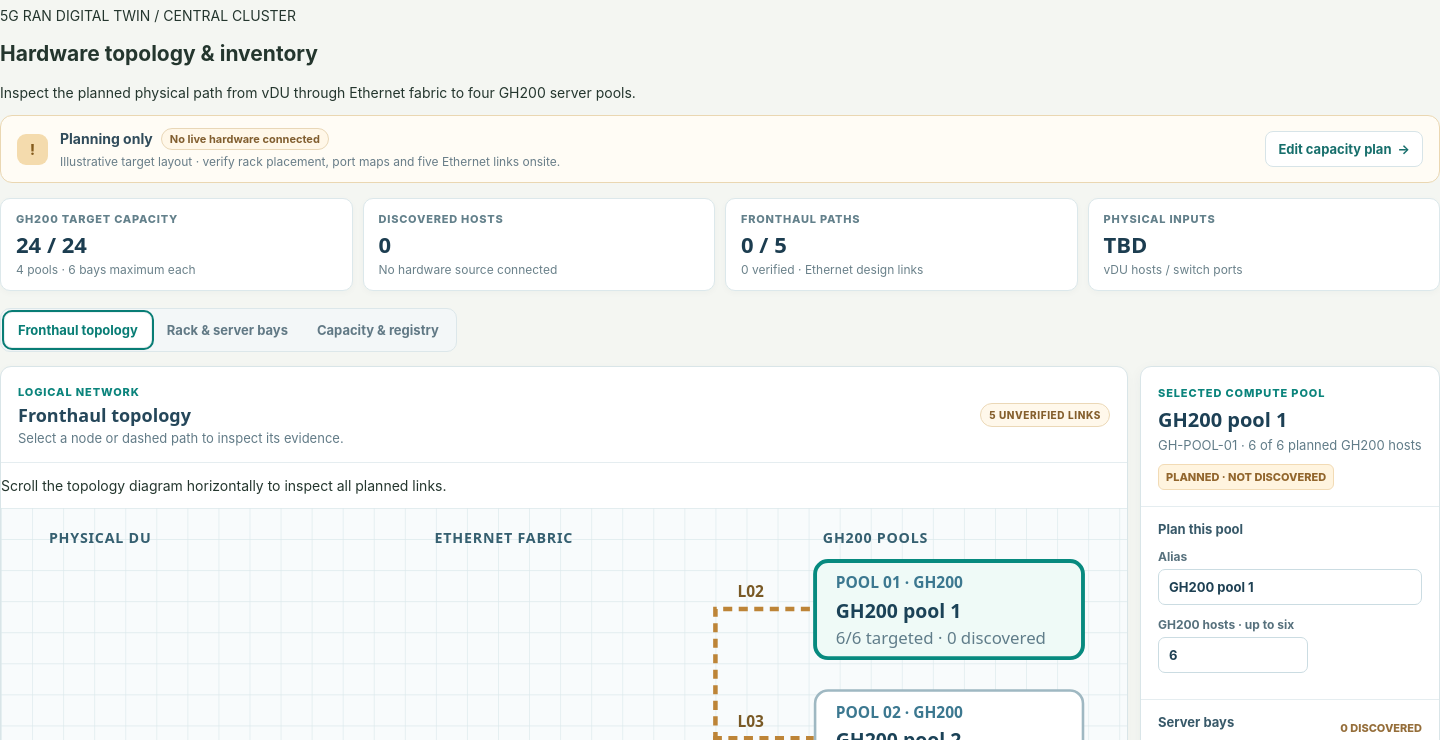
Test case: HardwarePreviewLeaf › renders transient topology, keeps roving keyboard tabs and makes racks inspectable
Check: the text "No live hardware connected" is shown, box [161,128,329,150]
Check: the text "Scroll the topology diagram horizontally to inspect all planned links." is shown, box [1,477,446,494]
Press ArrowRight in the tab "Fronthaul topology", box [5,313,151,347]
(page scrolled)
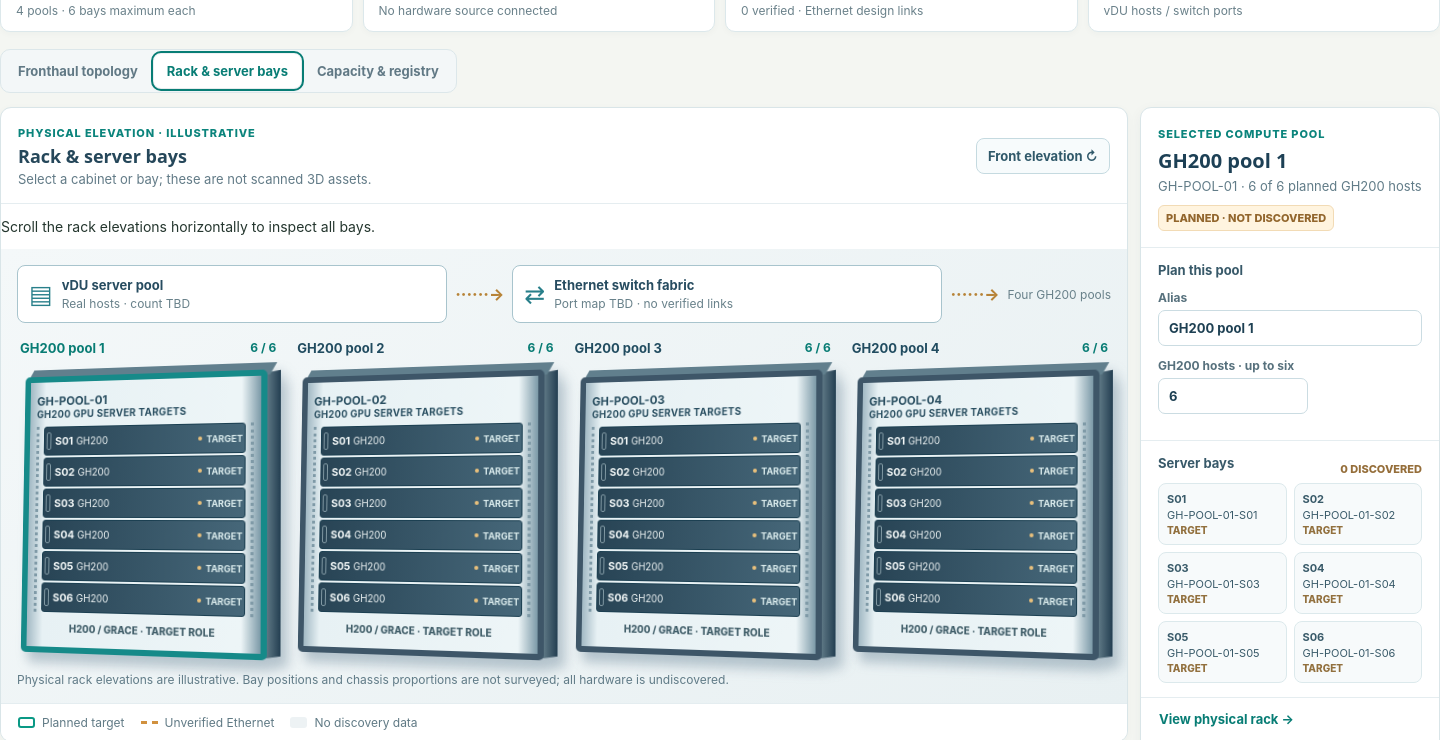
Check: the element named "Hardware rack elevations; scroll horizontally" is shown, box [1,249,1127,703]
Click the button with aria-label "GH-POOL-02-S06" at (420, 600), box [318,583,523,618]
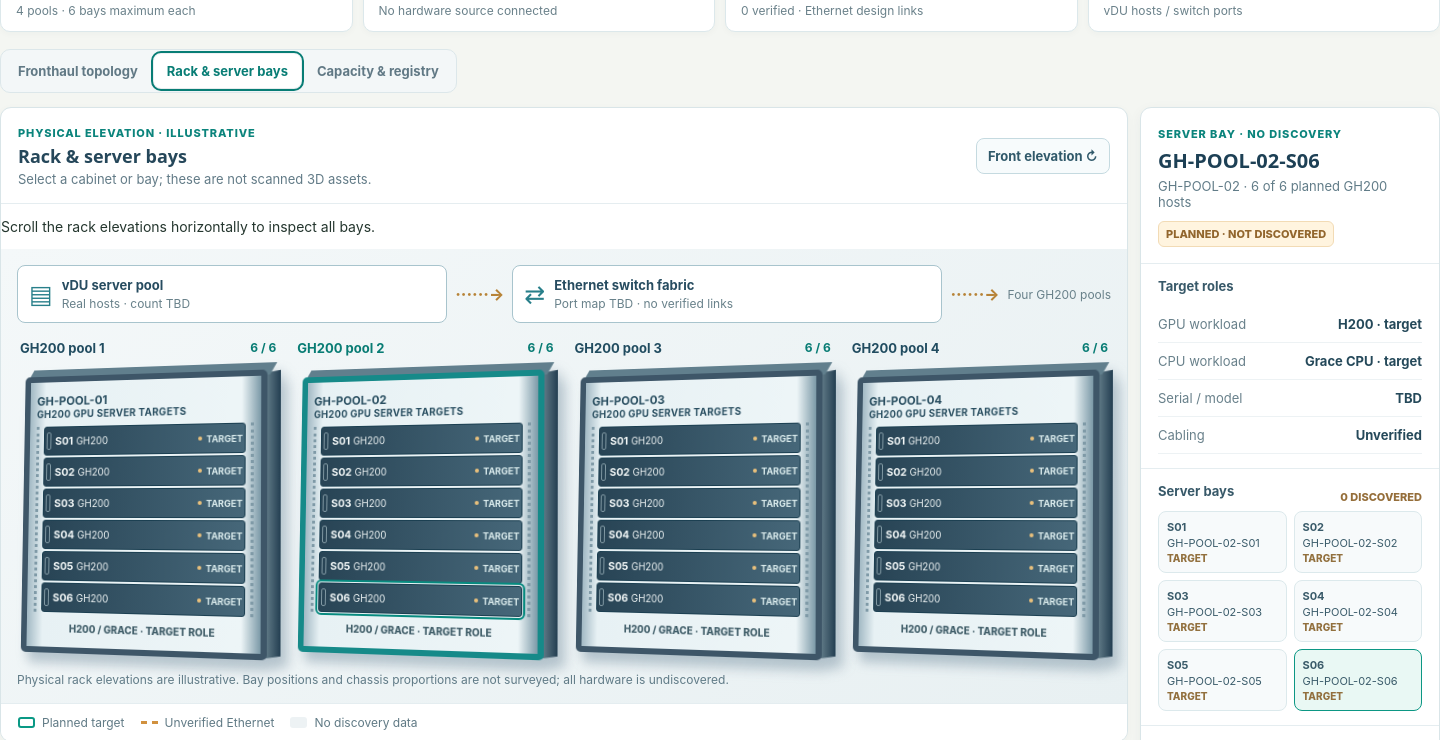
Check: the text "SERVER BAY · NO DISCOVERY" is shown, box [1158,127,1342,141]
Check: the heading "GH-POOL-02-S06" is shown, box [1158,147,1320,174]
Click the button "Front elevation ↻" at (1043, 156), box [976,138,1110,174]
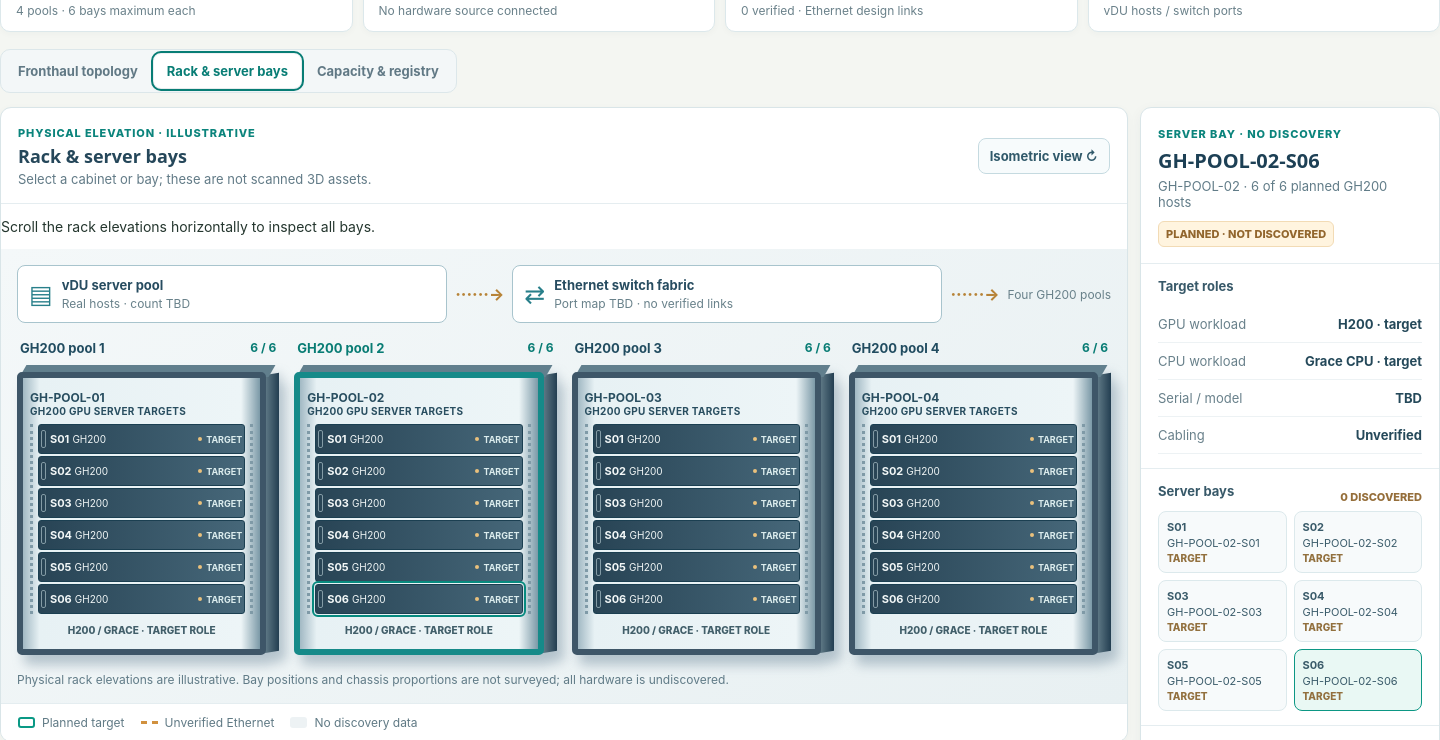
Check: the button "Isometric view ↻" is not pressed, box [978,138,1110,174]
Click the tab "Fronthaul topology" at (78, 71), box [5,54,151,88]
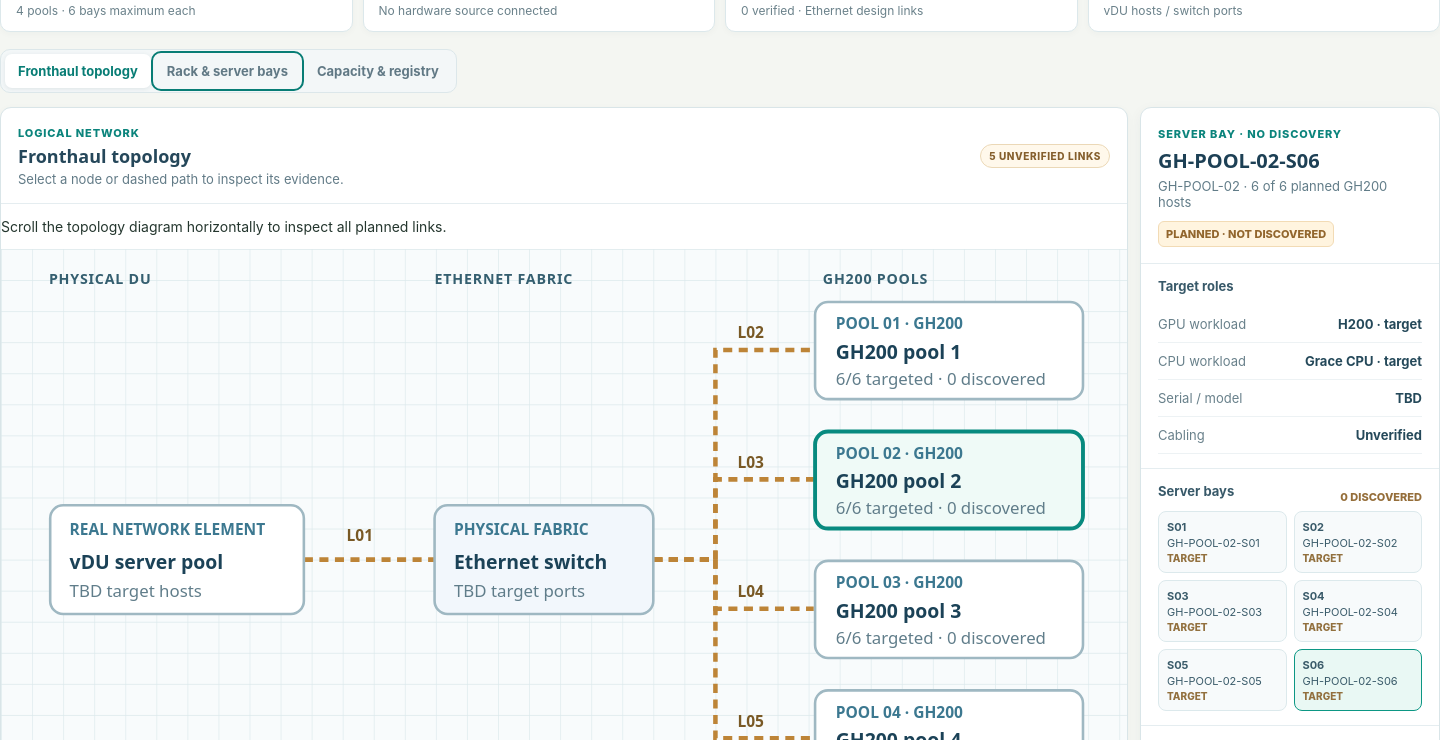
Press Enter in the button "Inspect unverified ETH-VDU-FABRIC Ethernet path", box [347,525,373,547]
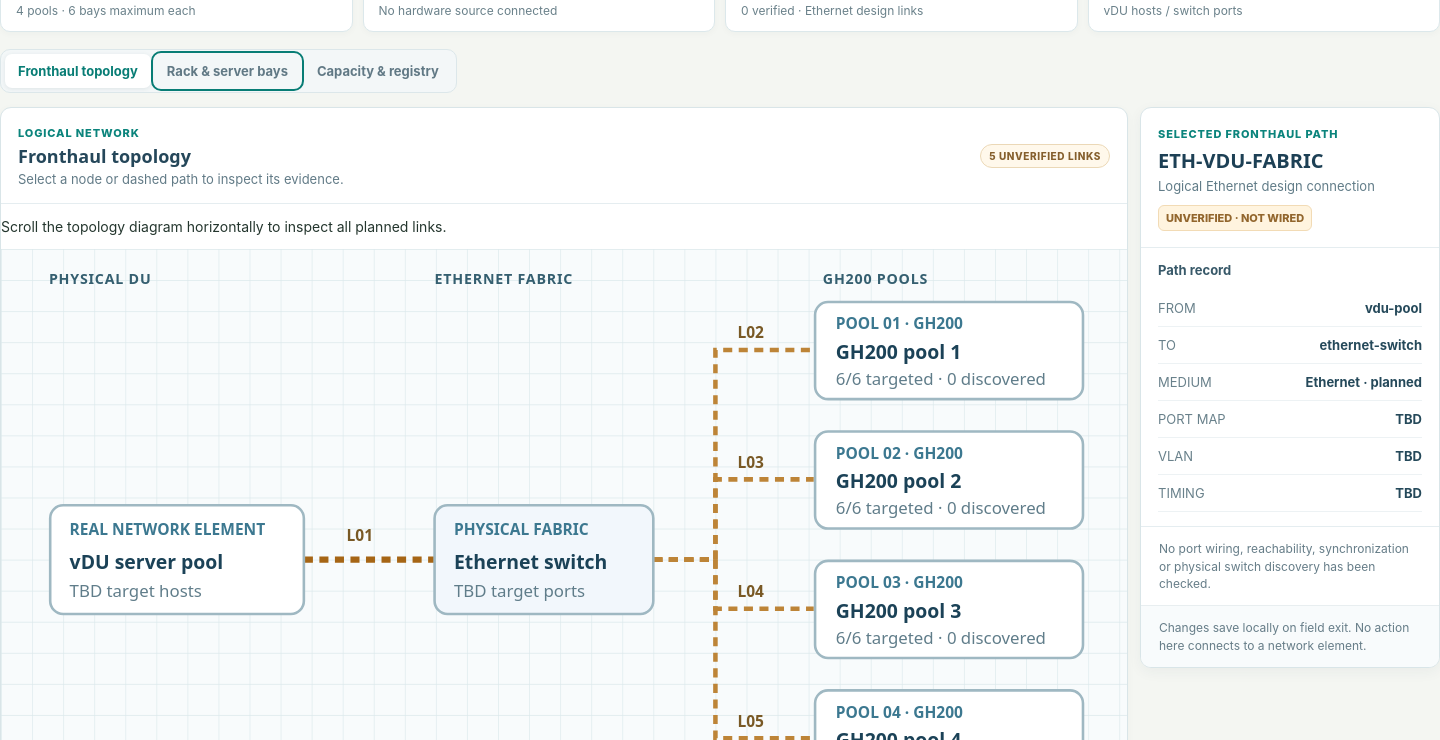
Check: the text "UNVERIFIED · NOT WIRED" is shown, box [1158,205,1312,231]
